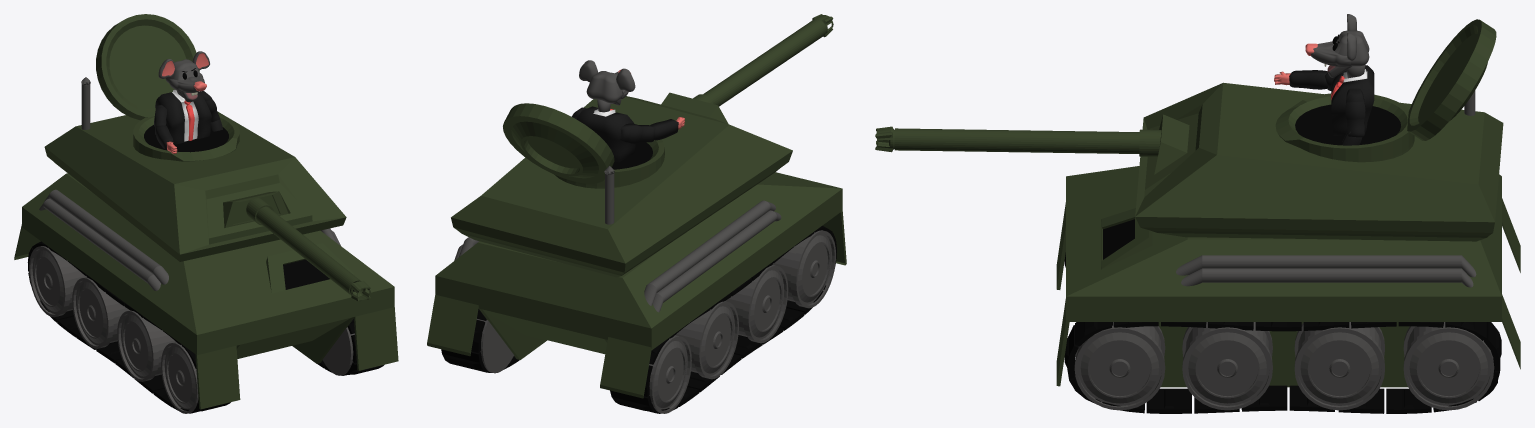
The model's file is Tank.fbx.
3 views of the same model, side by side, from view 1: azimuth 30°, elevation 25°; view 2: azimuth 150°, elevation 25°; view 3: azimuth 270°, elevation 25° (orthographic). The views are drawn at different scales.
Parts seen in each view (by area): view 1: Tank_bottom, Tank_Top, Wheels, Rat, Tracks_right, Tracks_Left; view 2: Tank_Top, Tank_bottom, Wheels, Rat, Tracks_right, Tracks_Left; view 3: Tank_Top, Tank_bottom, Wheels, Tracks_Left, Rat.
Part boxes in pixels (box(x1,y1,x2,y2)): Tank_bottom: box(14, 173, 398, 409); Tank_Top: box(44, 14, 370, 301); Wheels: box(29, 246, 354, 413); Rat: box(154, 51, 222, 153); Tracks_right: box(27, 241, 230, 413); Tracks_Left: box(317, 319, 384, 375); Tank_Top: box(451, 14, 833, 277); Tank_bottom: box(427, 172, 846, 398); Wheels: box(476, 230, 835, 413); Rat: box(571, 60, 684, 162); Tracks_right: box(610, 225, 836, 413); Tracks_Left: box(441, 309, 519, 372); Tank_Top: box(875, 19, 1503, 241); Tank_bottom: box(1056, 166, 1520, 387); Wheels: box(1074, 322, 1494, 410); Tracks_Left: box(1064, 322, 1501, 413); Rat: box(1274, 14, 1374, 145).
Bounding box in the file's own units: 290 × 378 × 658.
